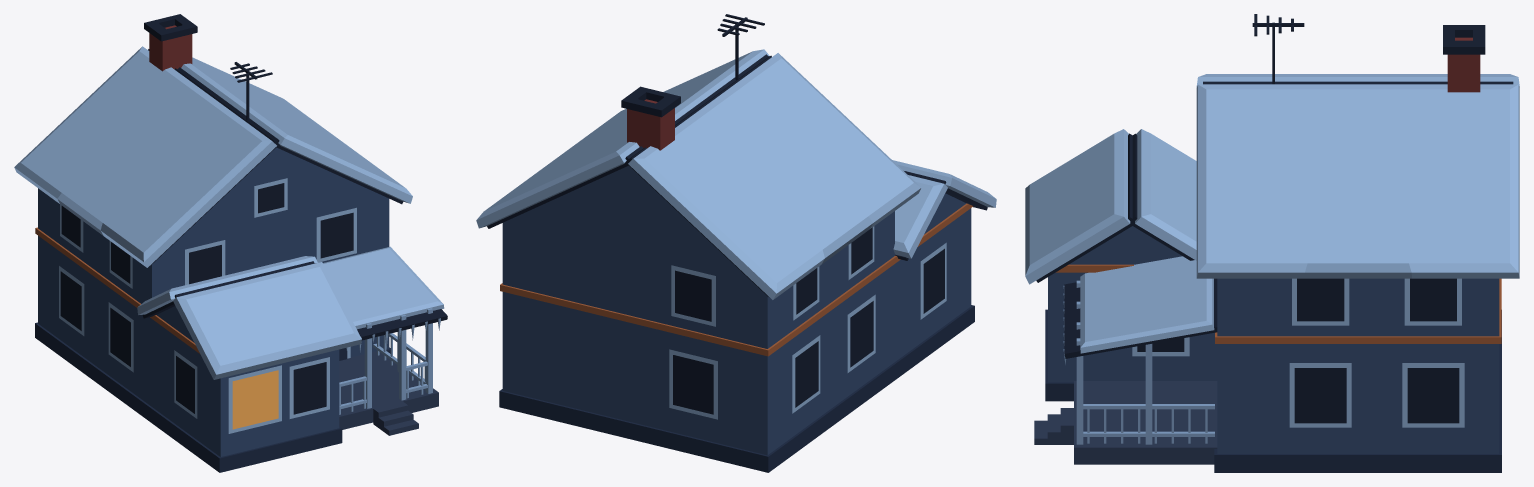
File: farmhouse.glb
3 renders of one model, left to right at view 1: azimuth 30°, elevation 25°; view 2: azimuth 150°, elevation 25°; view 3: azimuth 270°, elevation 25°, orthographic. The views are drawn at different scales.
Visible parts, largest first — view 1: FH_Fade_Roof, FH_Fade_Front, FH_Fade_SideLeft, FH_Fade_Porch, FH_Porch, FH_Shell; view 2: FH_Shell, FH_Fade_Roof, FH_Fade_SideLeft, FH_Fade_Front; view 3: FH_Fade_Roof, FH_Shell, FH_Fade_Porch, FH_Porch, FH_Fade_Front.
Boxes of the visible parts, x1,y1,x2,y2 form: FH_Fade_Roof: [14, 14, 412, 379]; FH_Fade_Front: [149, 147, 389, 456]; FH_Fade_SideLeft: [35, 188, 225, 456]; FH_Fade_Porch: [323, 246, 447, 408]; FH_Porch: [339, 333, 438, 435]; FH_Shell: [35, 190, 390, 472]; FH_Shell: [499, 165, 974, 472]; FH_Fade_Roof: [476, 14, 996, 299]; FH_Fade_SideLeft: [761, 193, 970, 455]; FH_Fade_Front: [891, 205, 973, 308]; FH_Fade_Roof: [1025, 14, 1519, 284]; FH_Shell: [1045, 278, 1501, 472]; FH_Fade_Porch: [1063, 256, 1217, 444]; FH_Porch: [1034, 381, 1217, 464]; FH_Fade_Front: [1048, 226, 1224, 453].
Bounding box in the file's own units: 8.17 × 8.85 × 10.52.
